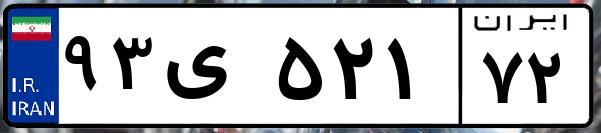1: (385, 28, 445, 110)
2: (330, 28, 385, 110), (525, 38, 570, 115)
3: (110, 28, 158, 98)
5: (270, 28, 330, 110)
7: (475, 38, 525, 113)
9: (57, 26, 110, 100)
ی: (158, 20, 270, 120)
